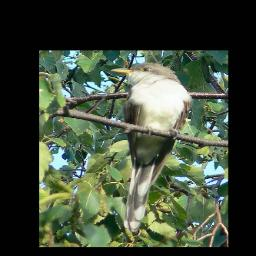Cuckoo: (110, 61, 191, 234)
